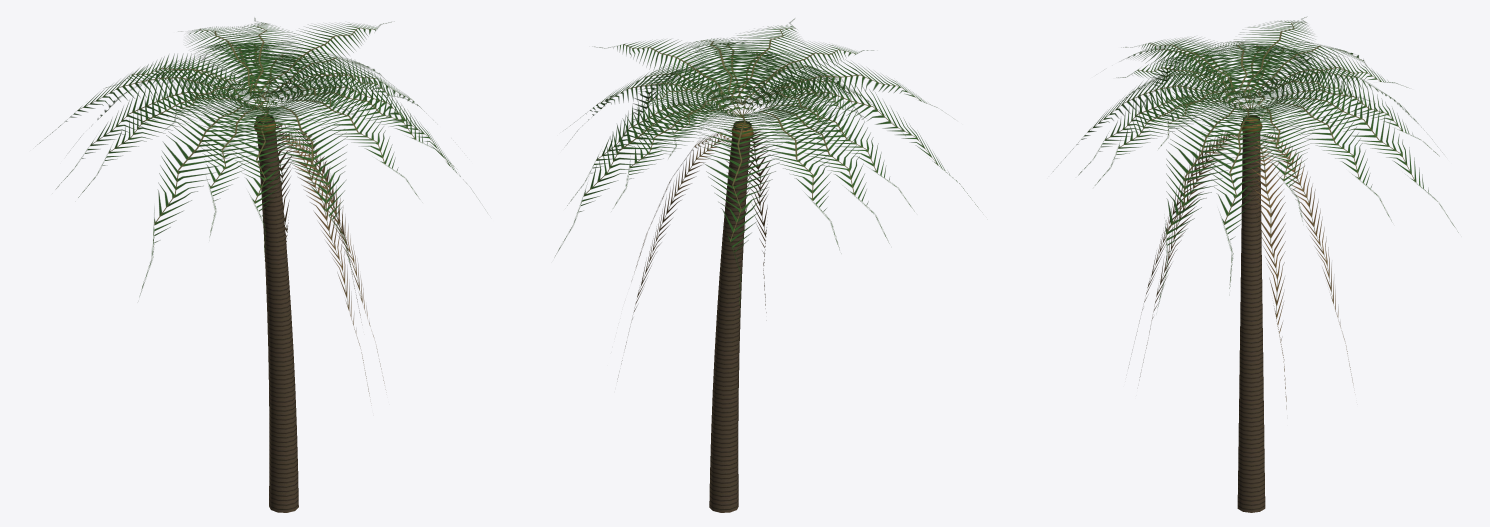
Rendered from palm-c.glb.
3 renders of one model, left to right at view 1: azimuth 30°, elevation 25°; view 2: azimuth 150°, elevation 25°; view 3: azimuth 270°, elevation 25°, orthographic. The views are drawn at different scales.
Parts seen in each view (by area): view 1: Palm13; view 2: Palm13; view 3: Palm13.
Boxes of the visible parts, left/top/right/bottom form: Palm13: left=37, top=18, right=479, bottom=512; Palm13: left=555, top=18, right=978, bottom=512; Palm13: left=1053, top=17, right=1458, bottom=512.
Size of the model in its own units: 8.2 by 8.62 by 7.95.
4 materials, 3 textured.
